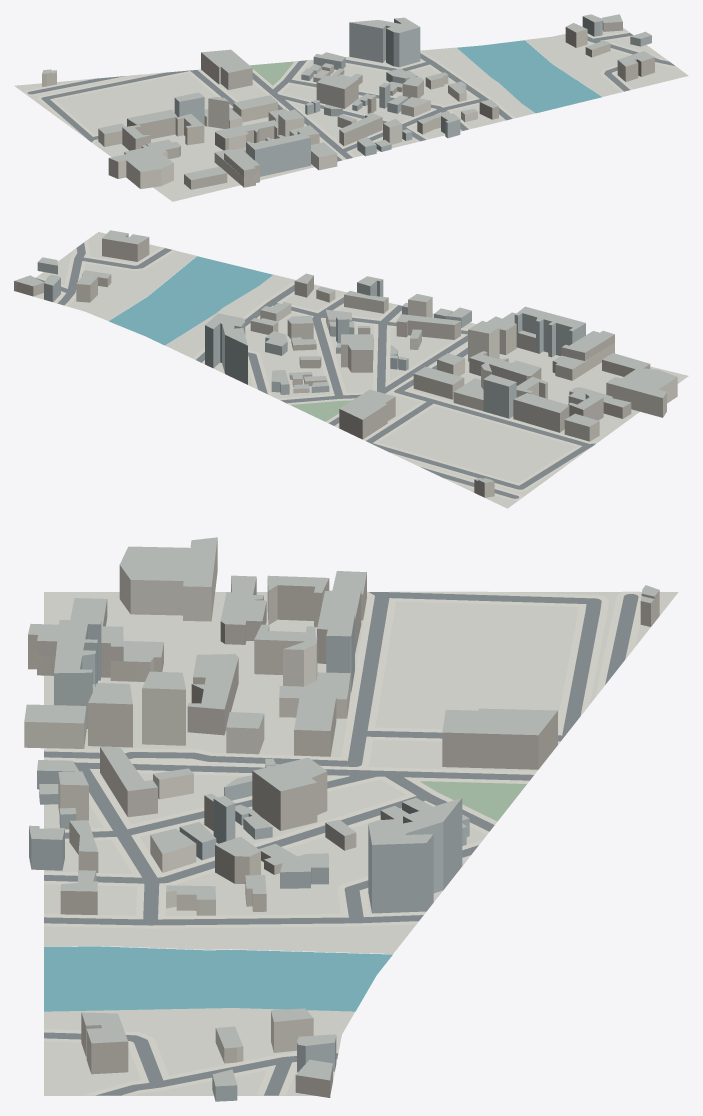
3 views of the same model, one above another, from view 1: azimuth 30°, elevation 25°; view 2: azimuth 150°, elevation 25°; view 3: azimuth 270°, elevation 25° (orthographic). The views are drawn at different scales.
Parts seen in each view (by area): view 1: city; view 2: city; view 3: city.
Part boxes in pixels (x1,y1,x2,y2): city: (14, 14, 688, 201); city: (14, 230, 688, 508); city: (24, 537, 678, 1101).
Bounding box in the file's own units: 526 × 31.98 × 274.
